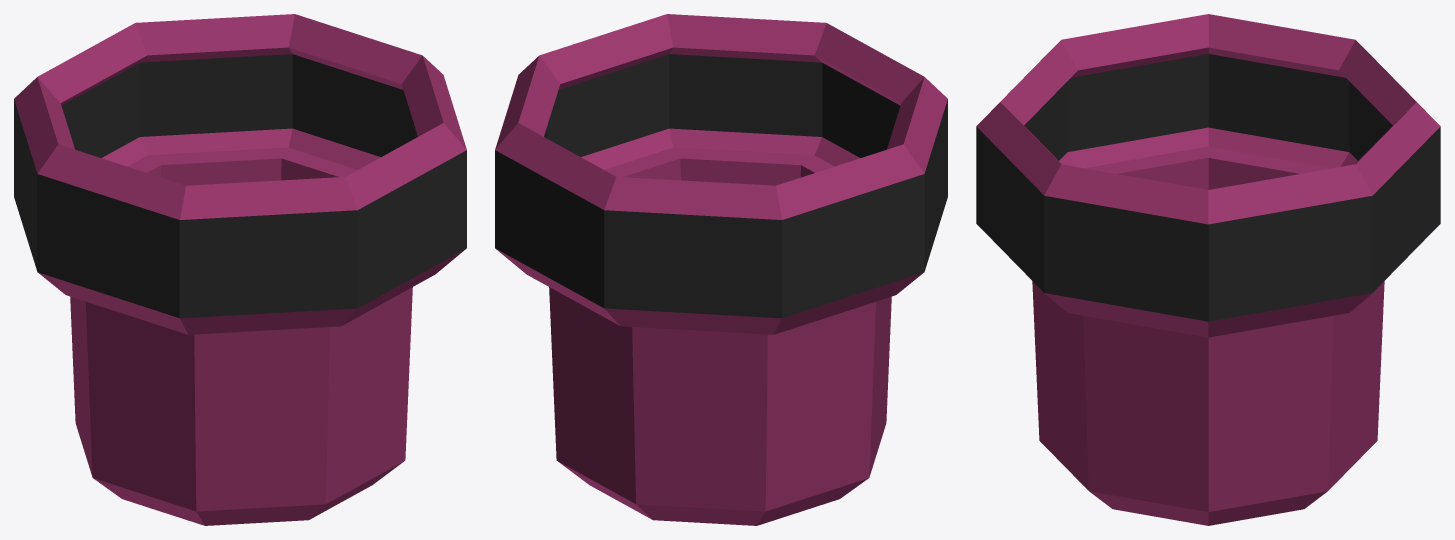
Rendered from SM_EmergencyLight.fbx.
The picture shows the model from 3 angles, left to right: view 1: azimuth 30°, elevation 25°; view 2: azimuth 150°, elevation 25°; view 3: azimuth 270°, elevation 25°; orthographic projection.
Visible parts, largest first — view 1: Cylinder.001; view 2: Cylinder.001; view 3: Cylinder.001.
Part boxes in pixels (left/top/right/bottom): Cylinder.001: left=14, top=14, right=466, bottom=525; Cylinder.001: left=495, top=14, right=947, bottom=525; Cylinder.001: left=976, top=14, right=1440, bottom=525.
Bounding box in the file's own units: 23.07 × 23.07 × 20.1.
